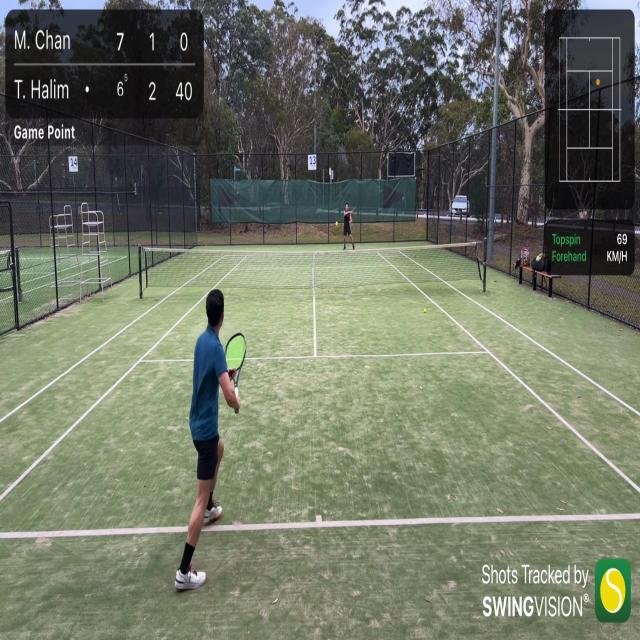ball: (422, 308, 426, 314), (336, 221, 338, 227)
